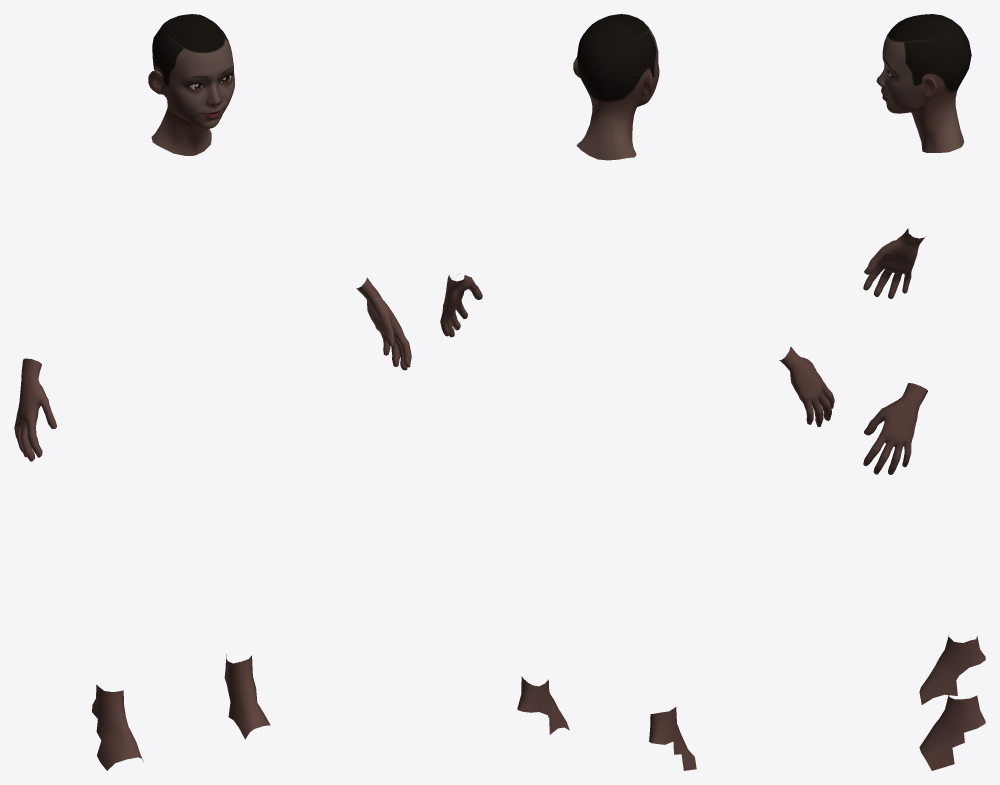
The model's file is femalehead4.glb.
The picture shows the model from 3 angles, left to right: view 1: azimuth 30°, elevation 25°; view 2: azimuth 150°, elevation 25°; view 3: azimuth 270°, elevation 25°; orthographic projection. The views are drawn at different scales.
Parts seen in each view (by area): view 1: Wolf3D_Head, Wolf3D_Body; view 2: Wolf3D_Head, Wolf3D_Body; view 3: Wolf3D_Body, Wolf3D_Head.
Boxes of the visible parts, left/top/right/bottom form: Wolf3D_Head: left=148, top=14, right=234, bottom=155; Wolf3D_Body: left=14, top=277, right=411, bottom=770; Wolf3D_Head: left=573, top=14, right=659, bottom=160; Wolf3D_Body: left=440, top=274, right=834, bottom=770; Wolf3D_Body: left=863, top=228, right=985, bottom=770; Wolf3D_Head: left=876, top=14, right=971, bottom=152.
Size of the model in its own units: 0.9279 by 1.69 by 0.2623.
3 materials, 3 textured.
